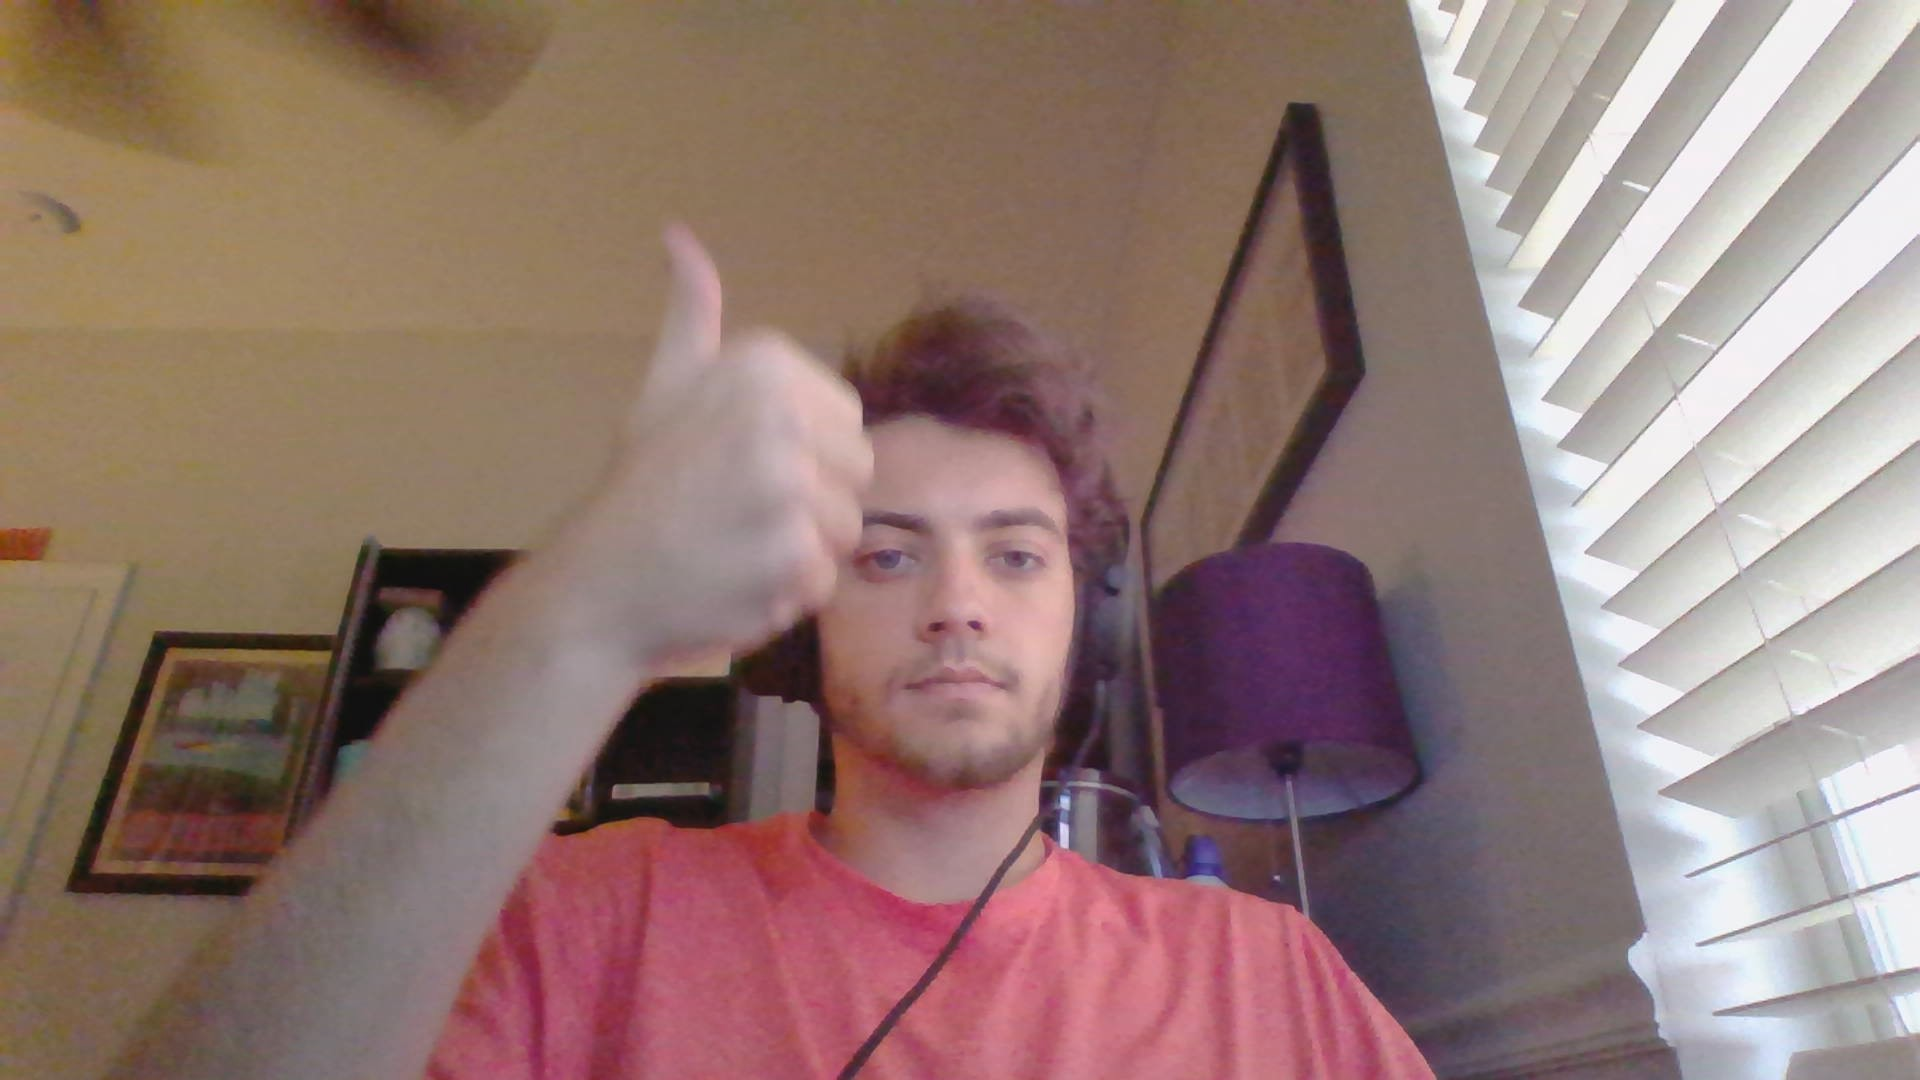Right Thumb Up: (502, 214, 885, 667)
